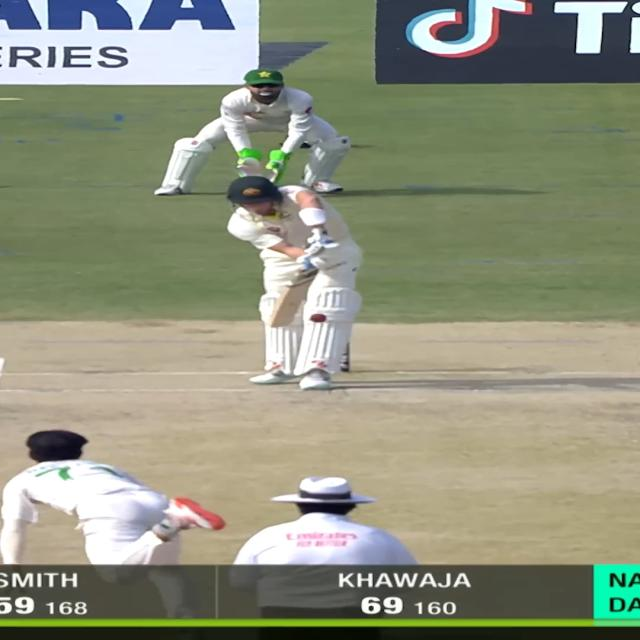Cricket ball: (308, 312, 328, 324)
